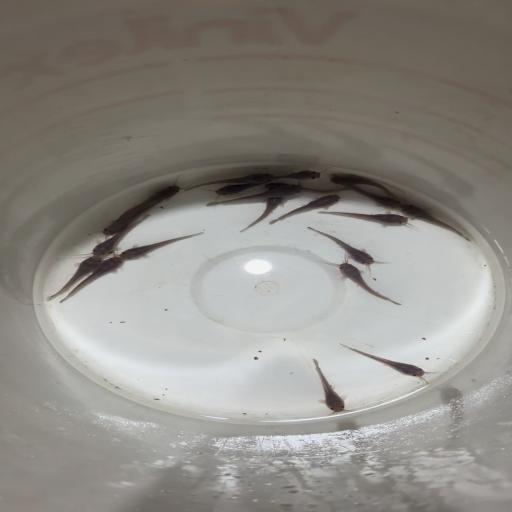lele: (337, 341, 441, 381), (327, 261, 403, 306), (306, 224, 382, 267), (62, 257, 126, 305), (307, 356, 353, 416), (120, 231, 206, 263), (41, 256, 102, 301), (402, 203, 471, 242), (91, 214, 151, 256), (314, 206, 414, 230), (206, 185, 300, 210), (182, 168, 275, 192), (274, 196, 342, 228), (240, 196, 286, 238), (331, 170, 402, 197), (343, 184, 406, 208), (266, 181, 352, 197), (141, 181, 185, 212), (99, 211, 151, 236), (271, 168, 326, 184), (205, 184, 259, 198)
